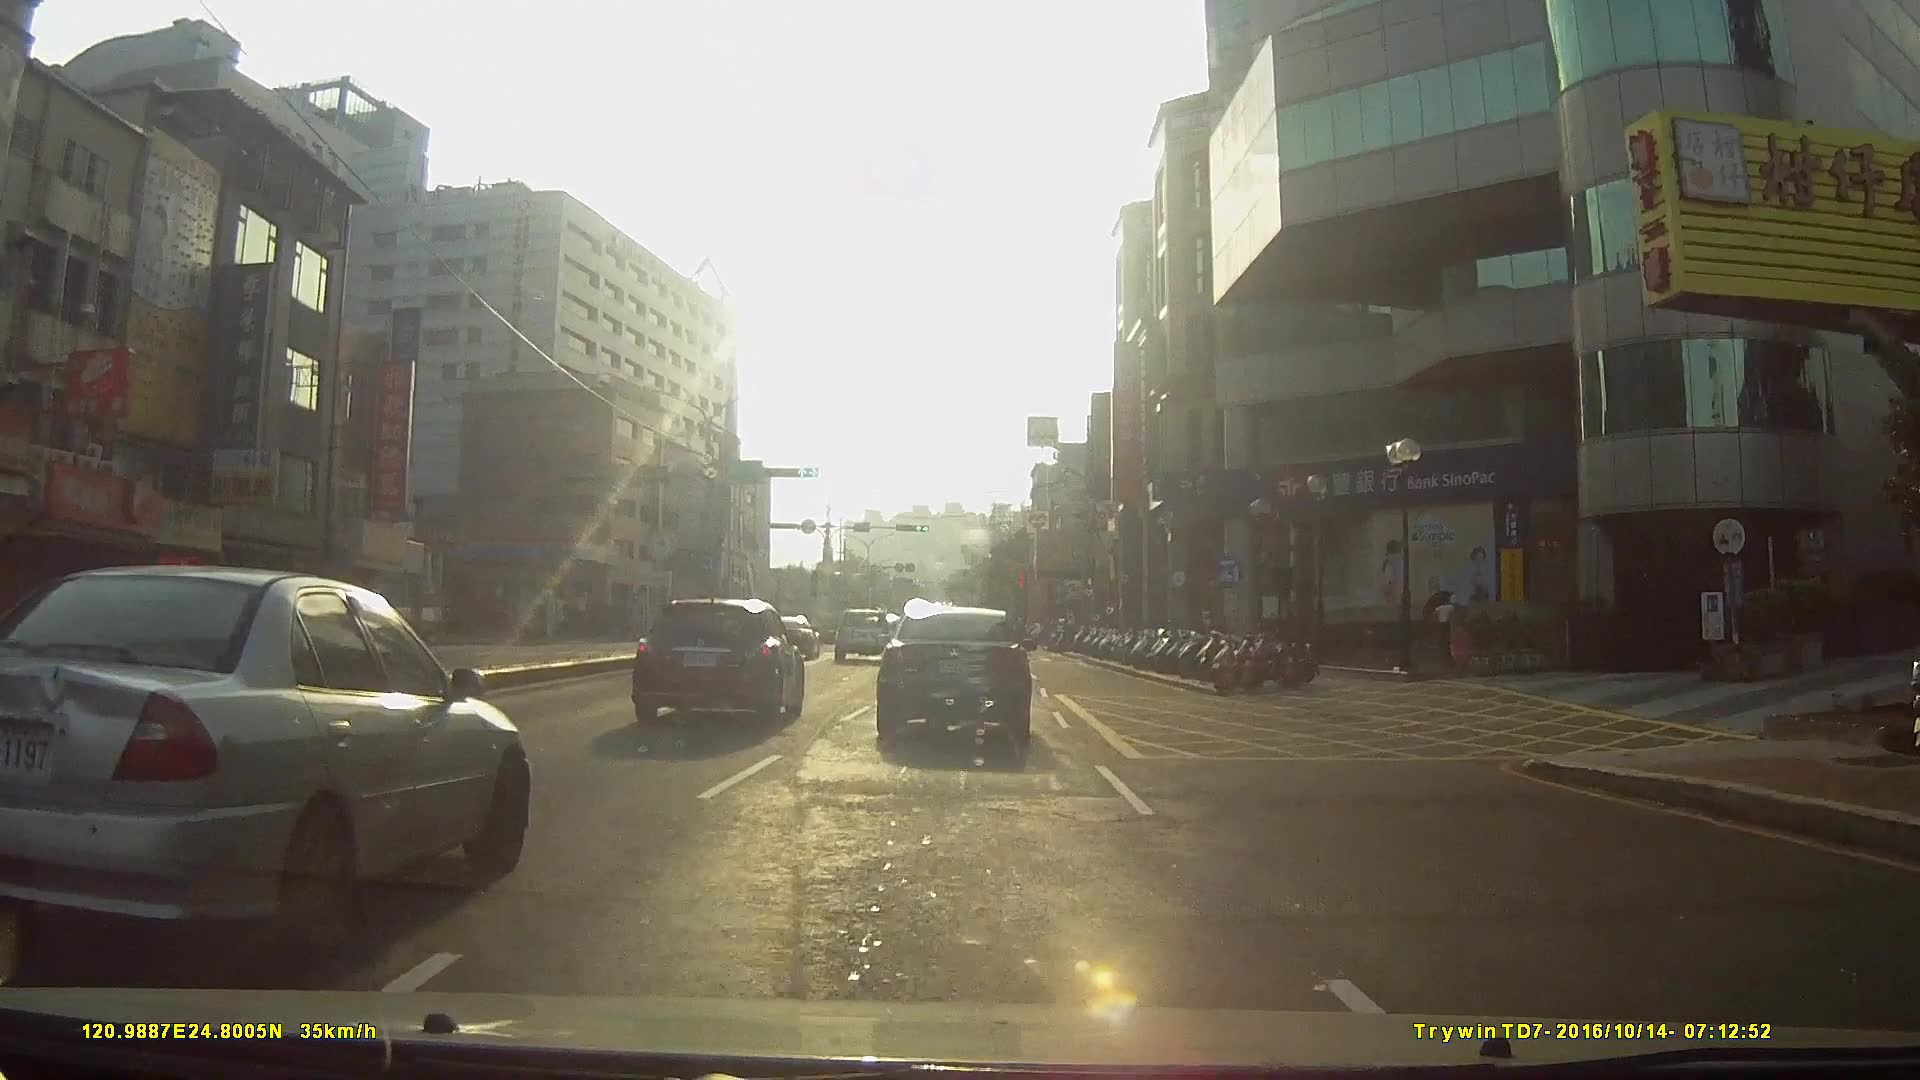pedestrian: (1445, 589, 1476, 678), (1431, 588, 1460, 670)
vehicle: (0, 563, 523, 969), (625, 588, 801, 724), (872, 606, 1032, 750), (829, 601, 891, 661), (760, 608, 812, 657)
